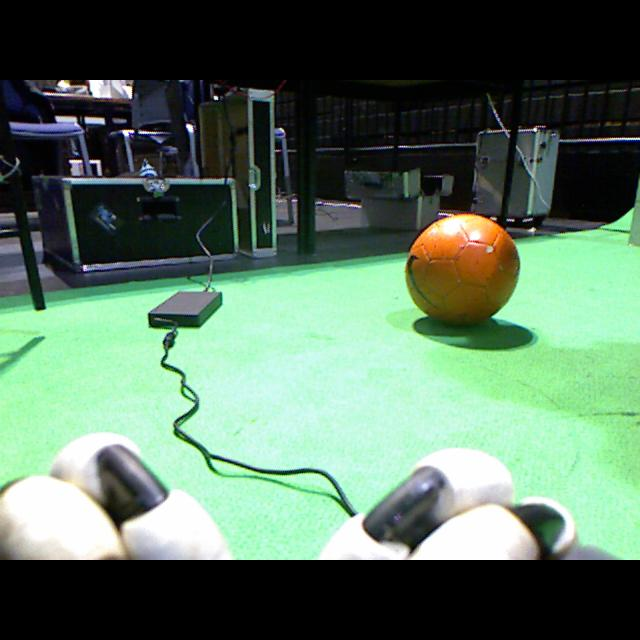ball: (404, 214, 520, 325)
